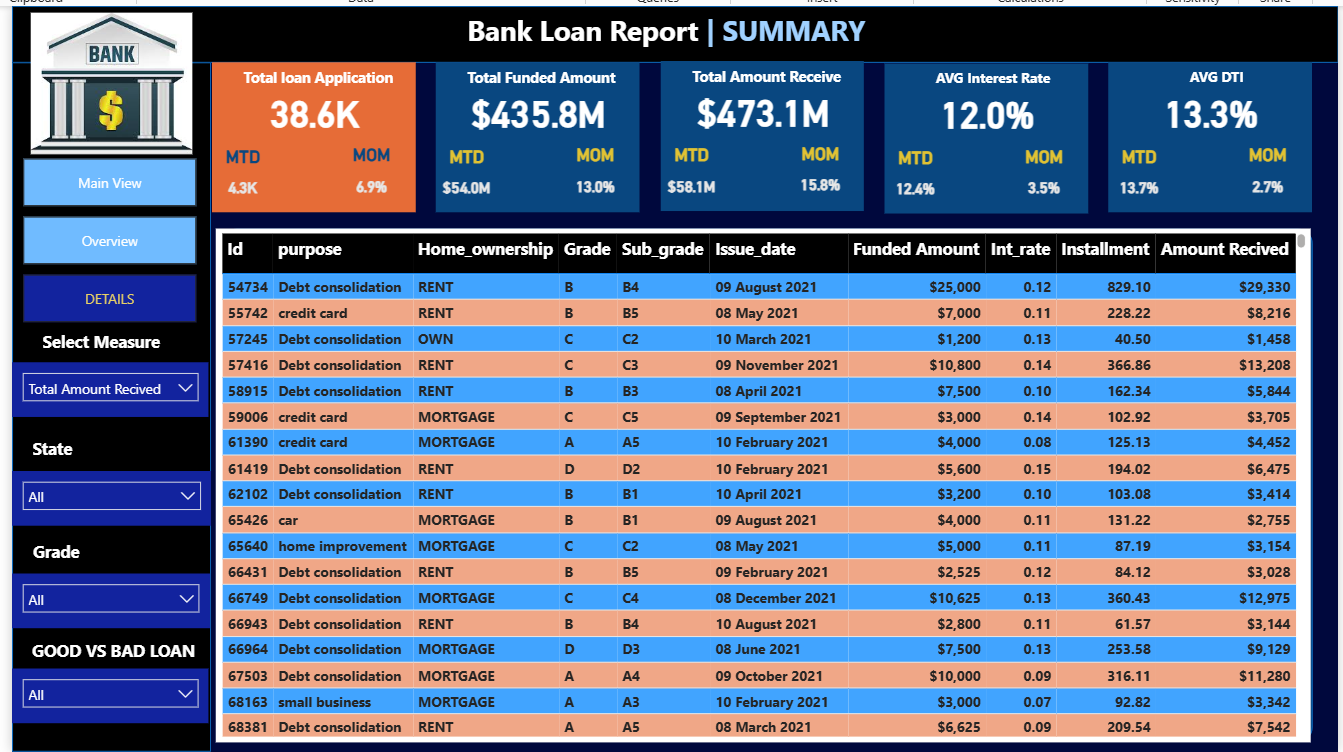

The dashboard page shown, as its layout file describes it:
{"tool":"powerbi","page":{"name":"DETAILS","canvas":[1280,720],"ordinal":2},"visuals":[{"type":"shape","box":[0,0,1280.3,54.9],"z":0},{"type":"shape","box":[625.8,53.6,196.3,145.1],"z":0,"group":"g3"},{"type":"shape","box":[192.6,54.2,196.7,145.1],"z":0,"group":"g1"},{"type":"shape","box":[409.2,54.2,196.7,145.1],"z":0,"group":"g2"},{"type":"shape","box":[1058.3,54.9,196.7,145.1],"z":0,"group":"g5"},{"type":"shape","box":[842.1,56.1,196.7,145.1],"z":0,"group":"g4"},{"type":"shape","box":[0,54.9,192.1,665.5],"z":1000},{"type":"card","fields":{"Values":["AMeasures.Total Amount Recived"]},"box":[640.7,69.9,169.2,63.7],"z":1000,"group":"g3"},{"type":"card","fields":{"Values":["AMeasures.Total_loan_Application"]},"box":[207.5,70.5,169.5,63.7],"z":1000,"group":"g1"},{"type":"card","fields":{"Values":["AMeasures.Total Funded Amount"]},"box":[424.1,70.5,169.5,63.7],"z":1000,"group":"g2"},{"type":"card","fields":{"Values":["AMeasures.Avg DTI"]},"box":[1073.2,71.2,169.5,63.7],"z":1000,"group":"g5"},{"type":"card","fields":{"Values":["AMeasures.Avg Interest Rate"]},"box":[857,72.4,169.5,63.7],"z":1000,"group":"g4"},{"type":"textbox","box":[651.5,53.6,158.4,32.5],"z":2000,"group":"g3"},{"type":"textbox","box":[218.4,54.2,158.7,32.5],"z":2000,"group":"g1"},{"type":"textbox","box":[435,54.2,158.7,32.5],"z":2000,"group":"g2"},{"type":"textbox","box":[1084.1,54.9,158.7,32.5],"z":2000,"group":"g5"},{"type":"textbox","box":[867.9,56.1,158.7,32.5],"z":2000,"group":"g4"},{"type":"shape","box":[202.9,214.3,1052.9,495.7],"z":2000},{"type":"textbox","box":[434,0,412.3,67.8],"z":3000},{"type":"card","title":"MTD","fields":{"Values":["AMeasures.MTD Total Amount recived"]},"box":[625.8,135,59.6,63.7],"z":3000,"group":"g3"},{"type":"card","title":"MTD","fields":{"Values":["AMeasures.MTD Loan Application"]},"box":[192.6,135.6,59.7,63.7],"z":3000,"group":"g1"},{"type":"card","title":"MTD","fields":{"Values":["AMeasures.MTD Funded Amount"]},"box":[409.2,135.6,59.7,63.7],"z":3000,"group":"g2"},{"type":"card","title":"MTD","fields":{"Values":["AMeasures.MTD Avg DTI"]},"box":[1058.3,136.3,59.7,63.7],"z":3000,"group":"g5"},{"type":"card","title":"MTD","fields":{"Values":["AMeasures.MTD Avg Int Rate"]},"box":[842.1,137.5,59.7,63.7],"z":3000,"group":"g4"},{"type":"group","id":"g1","title":"Group 1","box":[192.6,54.2,196.7,145.1],"z":4000},{"type":"card","title":"MOM","fields":{"Values":["AMeasures.MOM Total Amount recived"]},"box":[750.4,133.6,59.6,63.7],"z":4000,"group":"g3"},{"type":"card","title":"MOM","fields":{"Values":["AMeasures.MOM Loan Application"]},"box":[317.4,134.2,59.7,63.7],"z":4000,"group":"g1"},{"type":"card","title":"MOM","fields":{"Values":["AMeasures.MOM Total Funded Amount"]},"box":[534,134.2,59.7,63.7],"z":4000,"group":"g2"},{"type":"card","title":"MOM","fields":{"Values":["AMeasures.MOM Avg DTI"]},"box":[1183.1,134.9,59.7,63.7],"z":4000,"group":"g5"},{"type":"card","title":"MOM","fields":{"Values":["AMeasures.MOM Avg int Rate"]},"box":[966.9,136.1,59.7,63.7],"z":4000,"group":"g4"},{"type":"group","id":"g2","title":"Group 1","box":[409.2,54.2,196.7,145.1],"z":5000},{"type":"group","id":"g3","title":"Group 1","box":[625.8,53.6,196.3,145.1],"z":6000},{"type":"group","id":"g4","title":"Group 1","box":[842.1,56.1,196.3,145.1],"z":7000},{"type":"group","id":"g5","title":"Group 1","box":[1058.3,54.9,196.3,145.1],"z":8000},{"type":"slicer","fields":{"Values":["Bank loan.address_state"]},"box":[0,448.4,192.3,52.7],"z":9000},{"type":"textbox","box":[0,411.6,73.5,36.8],"z":10000},{"type":"slicer","fields":{"Values":["Bank loan.grade"]},"box":[0,547.6,191.1,52.7],"z":11000},{"type":"textbox","box":[0,510.9,80.9,36.8],"z":12000},{"type":"slicer","fields":{"Values":["Bank loan.GOOD VS BAD LOAB"]},"box":[0,639.5,189.9,52.7],"z":13000},{"type":"textbox","box":[0,605.7,191.4,34.3],"z":14000},{"type":"slicer","fields":{"Values":["select measures.select measures"]},"box":[0,344.3,189.9,52.7],"z":15000},{"type":"textbox","box":[0,307.5,167.8,36.8],"z":16000},{"type":"tableEx","fields":{"Values":["Bank loan.id","Bank loan.purpose","Bank loan.home_ownership","Bank loan.grade","Bank loan.sub_grade","Bank loan.issue_date","AMeasures.Total Funded Amount","Sum(Bank loan.int_rate)","Sum(Bank loan.installment)","AMeasures.Total Amount Recived"]},"box":[197.1,214.3,1057.1,495.7],"z":17000},{"type":"pageNavigator","box":[11.4,147.1,167.1,160],"z":18000},{"type":"image","box":[12.9,0,165.7,150],"z":19000}]}

Visuals, with their boxes on the page's 1280x720 design canvas (x1, y1, x2, y2). These are canvas units, not pixel positions in the 1343x752 screenshot, which may show the page scaled, cropped or inside an application window:
shape: locate(0, 0, 1280, 55)
shape: locate(626, 54, 822, 199)
shape: locate(193, 54, 389, 199)
shape: locate(409, 54, 606, 199)
shape: locate(1058, 55, 1255, 200)
shape: locate(842, 56, 1039, 201)
shape: locate(0, 55, 192, 720)
card - AMeasures.Total Amount Recived: locate(641, 70, 810, 134)
card - AMeasures.Total_loan_Application: locate(208, 70, 377, 134)
card - AMeasures.Total Funded Amount: locate(424, 70, 594, 134)
card - AMeasures.Avg DTI: locate(1073, 71, 1243, 135)
card - AMeasures.Avg Interest Rate: locate(857, 72, 1026, 136)
textbox: locate(652, 54, 810, 86)
textbox: locate(218, 54, 377, 87)
textbox: locate(435, 54, 594, 87)
textbox: locate(1084, 55, 1243, 87)
textbox: locate(868, 56, 1027, 89)
shape: locate(203, 214, 1256, 710)
textbox: locate(434, 0, 846, 68)
"MTD" card: locate(626, 135, 685, 199)
"MTD" card: locate(193, 136, 252, 199)
"MTD" card: locate(409, 136, 469, 199)
"MTD" card: locate(1058, 136, 1118, 200)
"MTD" card: locate(842, 138, 902, 201)
"Group 1" group: locate(193, 54, 389, 199)
"MOM" card: locate(750, 134, 810, 197)
"MOM" card: locate(317, 134, 377, 198)
"MOM" card: locate(534, 134, 594, 198)
"MOM" card: locate(1183, 135, 1243, 199)
"MOM" card: locate(967, 136, 1027, 200)
"Group 1" group: locate(409, 54, 606, 199)
"Group 1" group: locate(626, 54, 822, 199)
"Group 1" group: locate(842, 56, 1038, 201)
"Group 1" group: locate(1058, 55, 1255, 200)
slicer - Bank loan.address_state: locate(0, 448, 192, 501)
textbox: locate(0, 412, 74, 448)
slicer - Bank loan.grade: locate(0, 548, 191, 600)
textbox: locate(0, 511, 81, 548)
slicer - Bank loan.GOOD VS BAD LOAB: locate(0, 640, 190, 692)
textbox: locate(0, 606, 191, 640)
slicer - select measures.select measures: locate(0, 344, 190, 397)
textbox: locate(0, 308, 168, 344)
tableEx - Bank loan.id x Bank loan.purpose: locate(197, 214, 1254, 710)
pageNavigator: locate(11, 147, 178, 307)
image: locate(13, 0, 179, 150)
